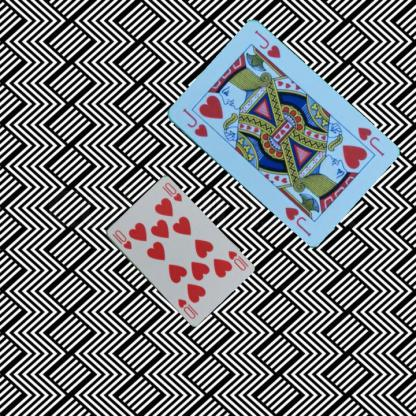10h: (109, 227, 133, 251), (225, 248, 247, 271)
Jh: (354, 124, 386, 158), (179, 105, 209, 139)
